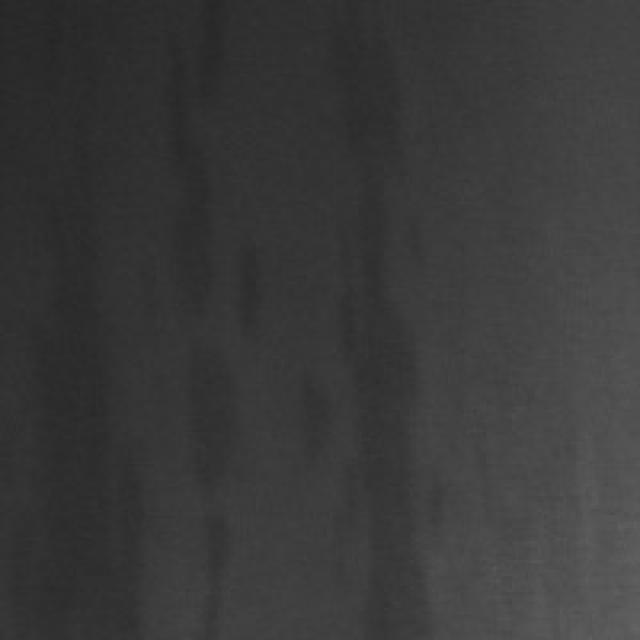inclusion: (324, 0, 439, 630), (10, 150, 124, 630), (166, 0, 250, 509), (189, 499, 246, 637)
